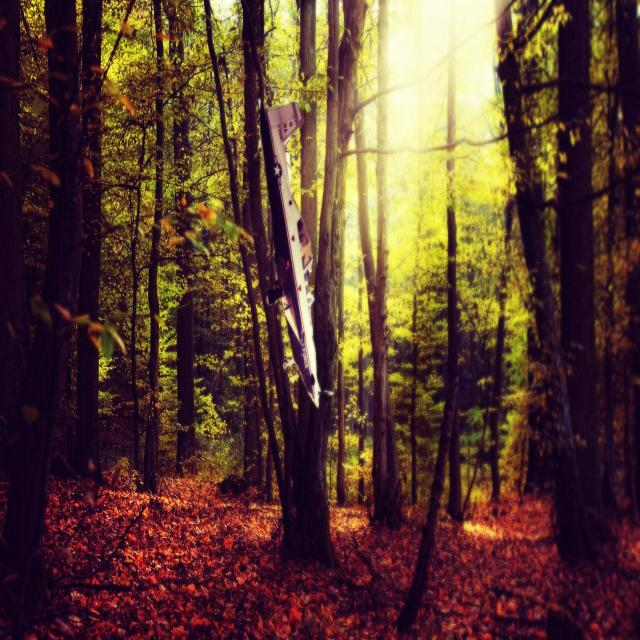airplane: (257, 96, 334, 410)
